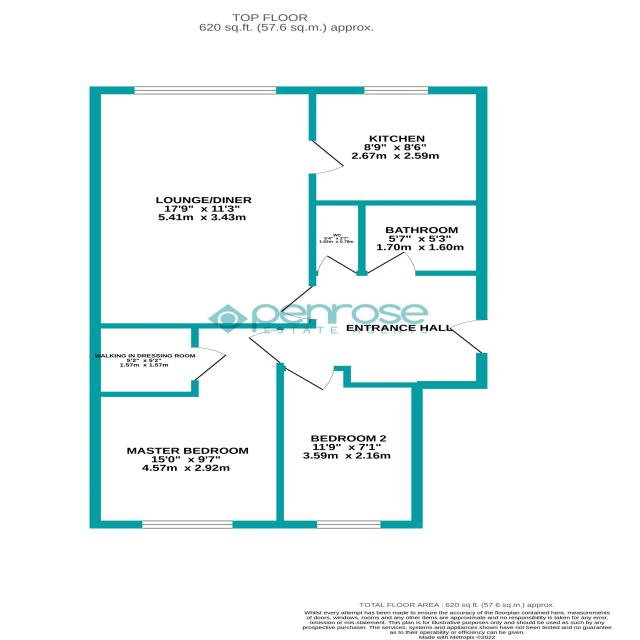DOOR: (446, 318, 488, 355), (275, 284, 317, 321), (308, 139, 347, 175), (284, 365, 335, 392), (365, 250, 417, 276), (191, 346, 228, 381), (247, 329, 284, 364), (316, 254, 358, 276)
ROOM: (88, 86, 347, 329), (89, 323, 284, 529), (276, 366, 423, 529), (308, 86, 488, 206)
WINDOW: (133, 85, 277, 95), (140, 519, 234, 530), (363, 85, 429, 95), (316, 520, 382, 529)
